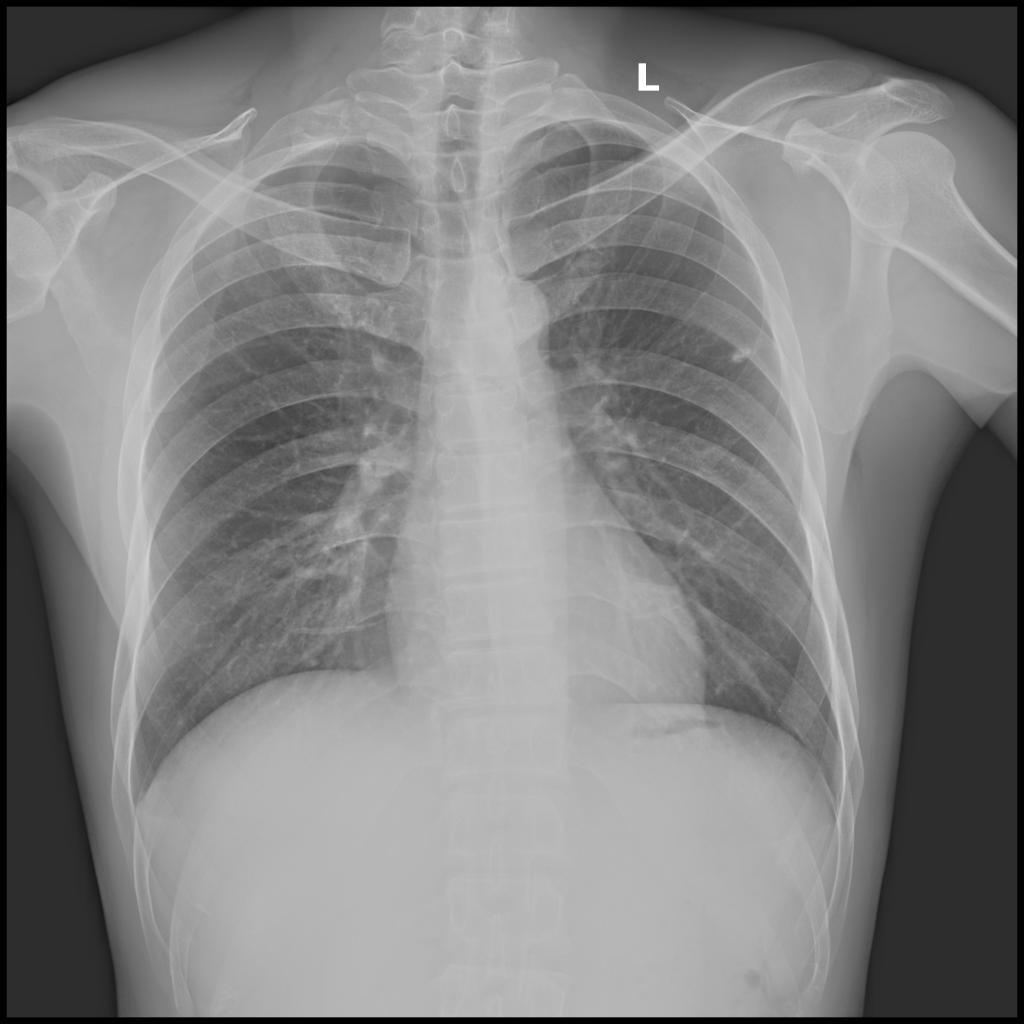Nodule: (729, 348, 753, 364)
